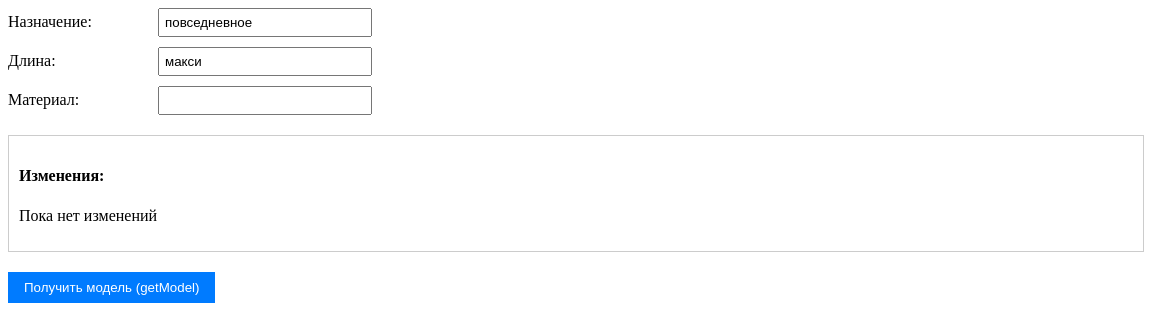
Test: ParamEditor › корректный результат getModel() после изменений › должен отражать изменения в логе изменений
Check: the text "Пока нет изменений" is shown, box x1=19 y1=206 x2=157 y2=224
Step 1. Replace the text in the field with test id "param-input-1" with "официальное" → [265, 22], box x1=158 y1=8 x2=372 y2=37
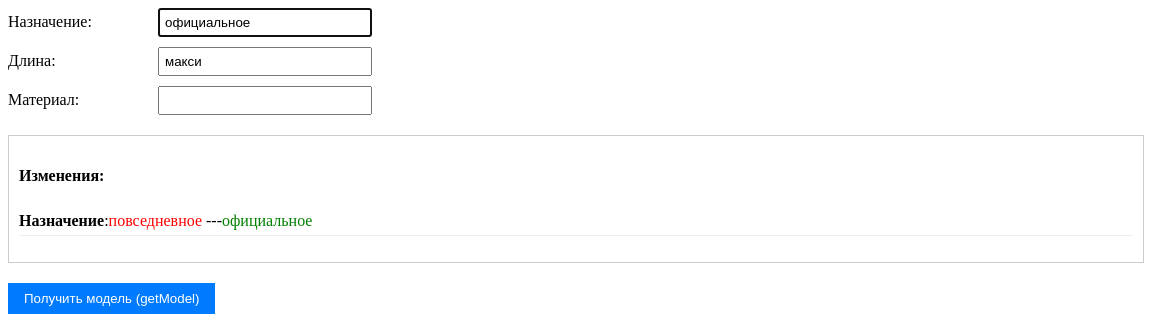
Check: the list with test id "changes-list" is shown, box x1=19 y1=206 x2=1133 y2=236
Check: the text with test id "change-name-1" reads "Назначение", box x1=19 y1=212 x2=104 y2=228
Check: the text with test id "old-value-1" reads "повседневное", box x1=109 y1=212 x2=202 y2=228
Step 2. Replace the text in the field with test id "param-input-1" with "спортивное" → [265, 22], box x1=158 y1=8 x2=372 y2=37
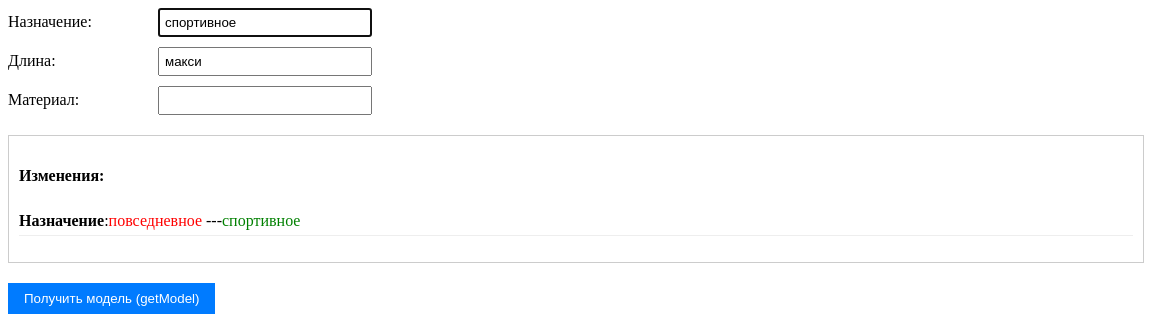
Check: the text with test id "new-value-1" reads "спортивное", box x1=222 y1=212 x2=300 y2=228
